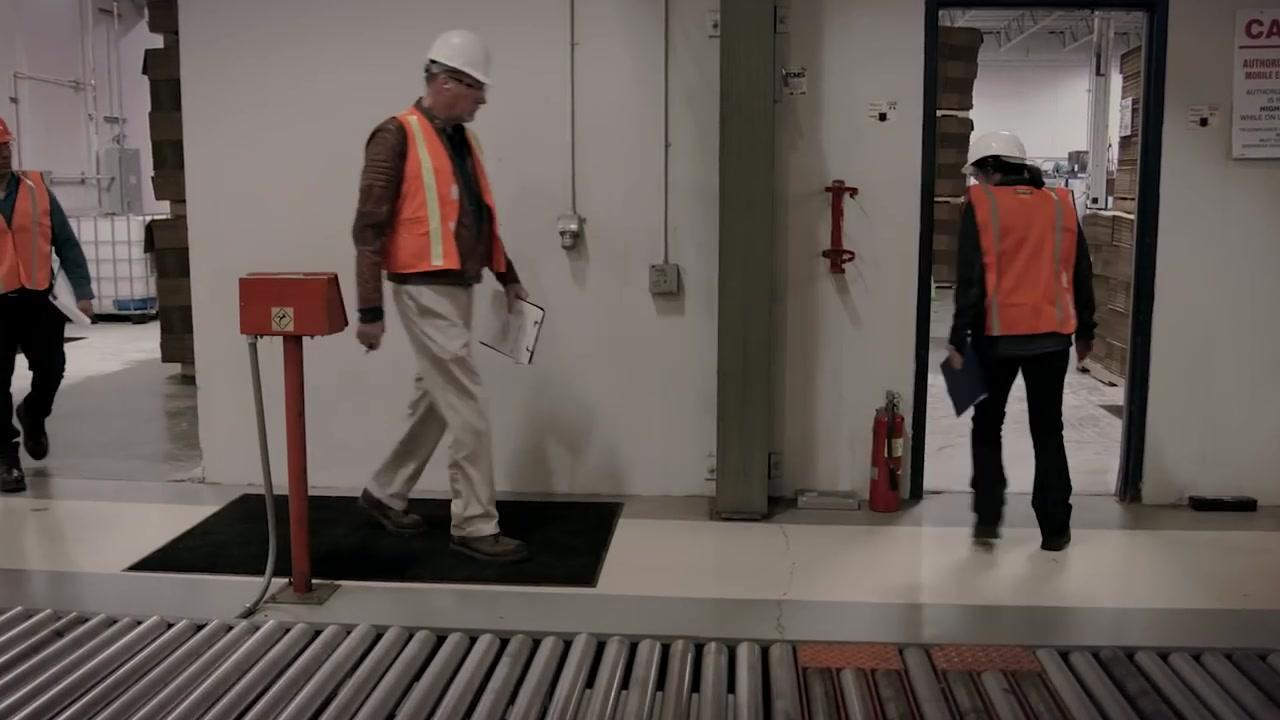vest: (960, 178, 1082, 333), (388, 110, 505, 271), (0, 165, 51, 291)
